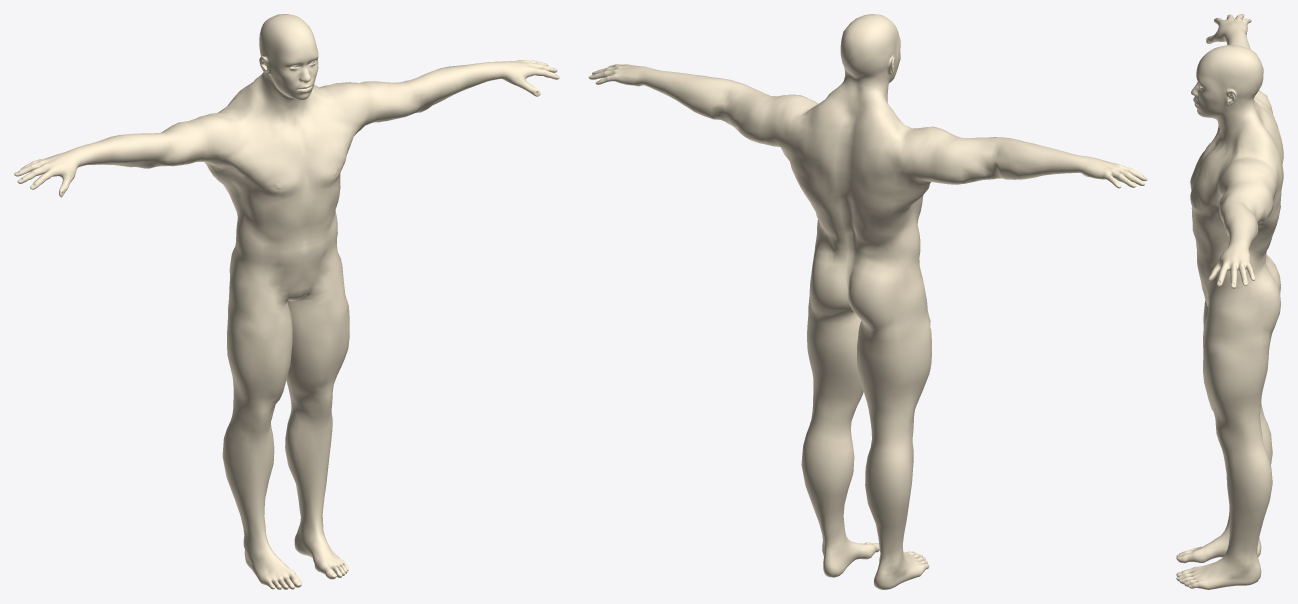
Rendered from MuscleManPosed.obj.
3 renders of one model, left to right at view 1: azimuth 30°, elevation 25°; view 2: azimuth 150°, elevation 25°; view 3: azimuth 270°, elevation 25°, orthographic. The views are drawn at different scales.
Size of the model in its own units: 184 by 178 by 33.03.
